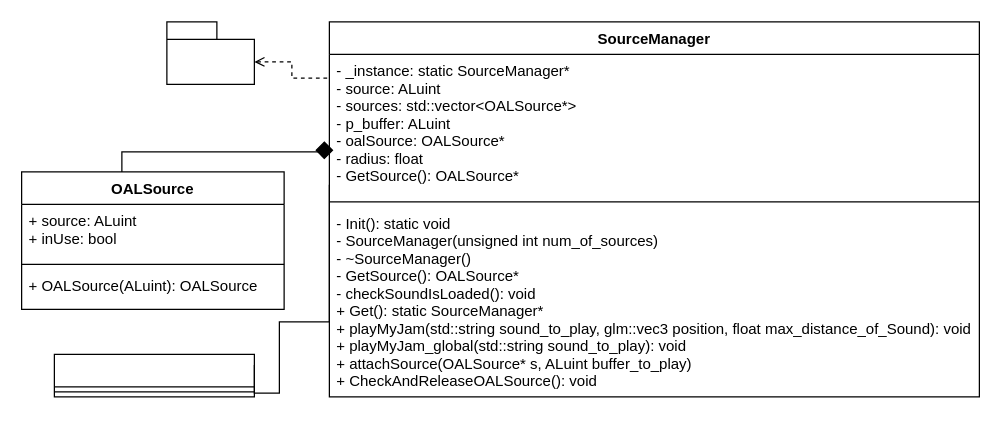
Some shapes in this 1003 by 423 pixel diagram are drawn without their labels. The centre of each missing label's shape, as x and y in pixels:
"OpenAL" goes at point 210,52.
"OpenALErrorCheck" goes at point 153,375.
